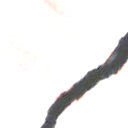crackTip: (39, 30, 128, 127)
